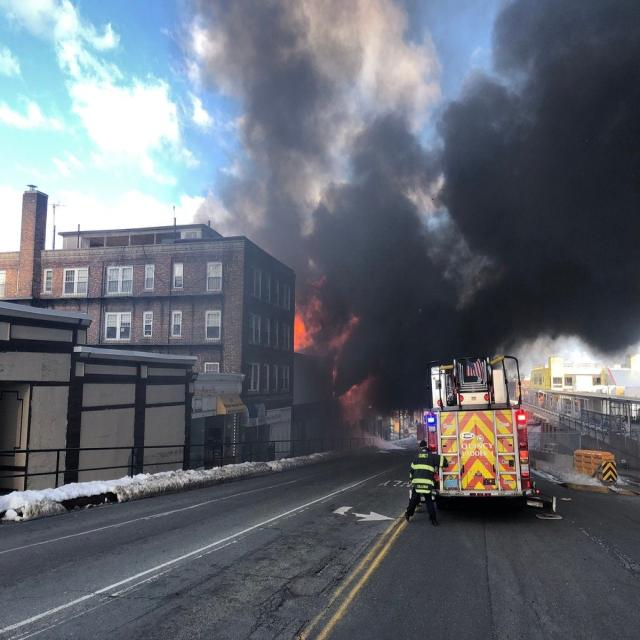smoke: (336, 89, 637, 346), (198, 5, 330, 239)
